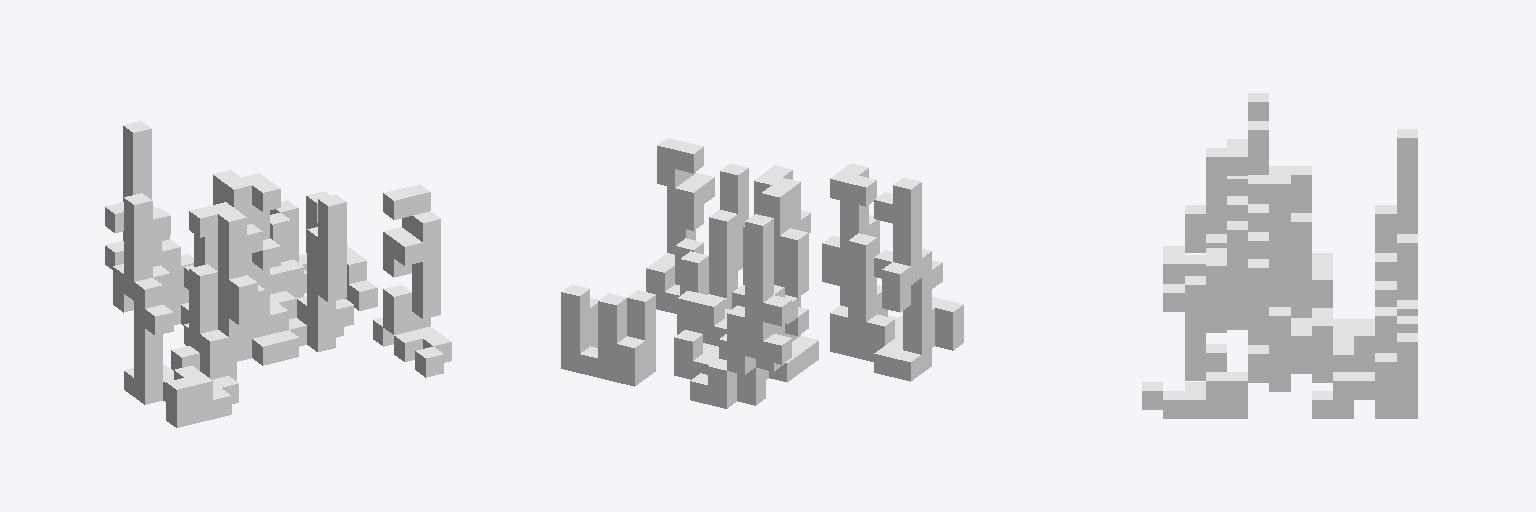
The model's file is lvl2-4.obj.
3 renders of one model, left to right at view 1: azimuth 30°, elevation 25°; view 2: azimuth 150°, elevation 25°; view 3: azimuth 270°, elevation 25°, orthographic.
Visible parts, largest first — view 1: object 1; view 2: object 1; view 3: object 1.
Part boxes in pixels (bbox=[...]): object 1: bbox=[105, 121, 451, 427]; object 1: bbox=[561, 138, 963, 408]; object 1: bbox=[1142, 93, 1417, 418].
Bounding box in the file's own units: 1.5 × 1 × 1.3.